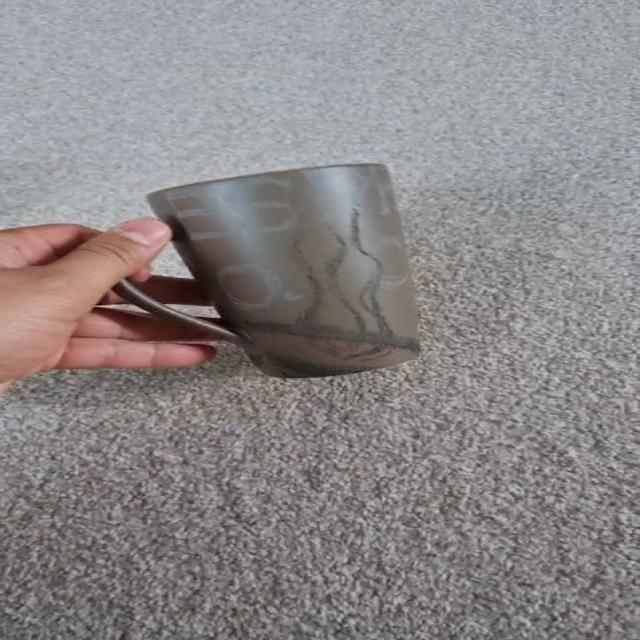Cup: (150, 164, 419, 377)
